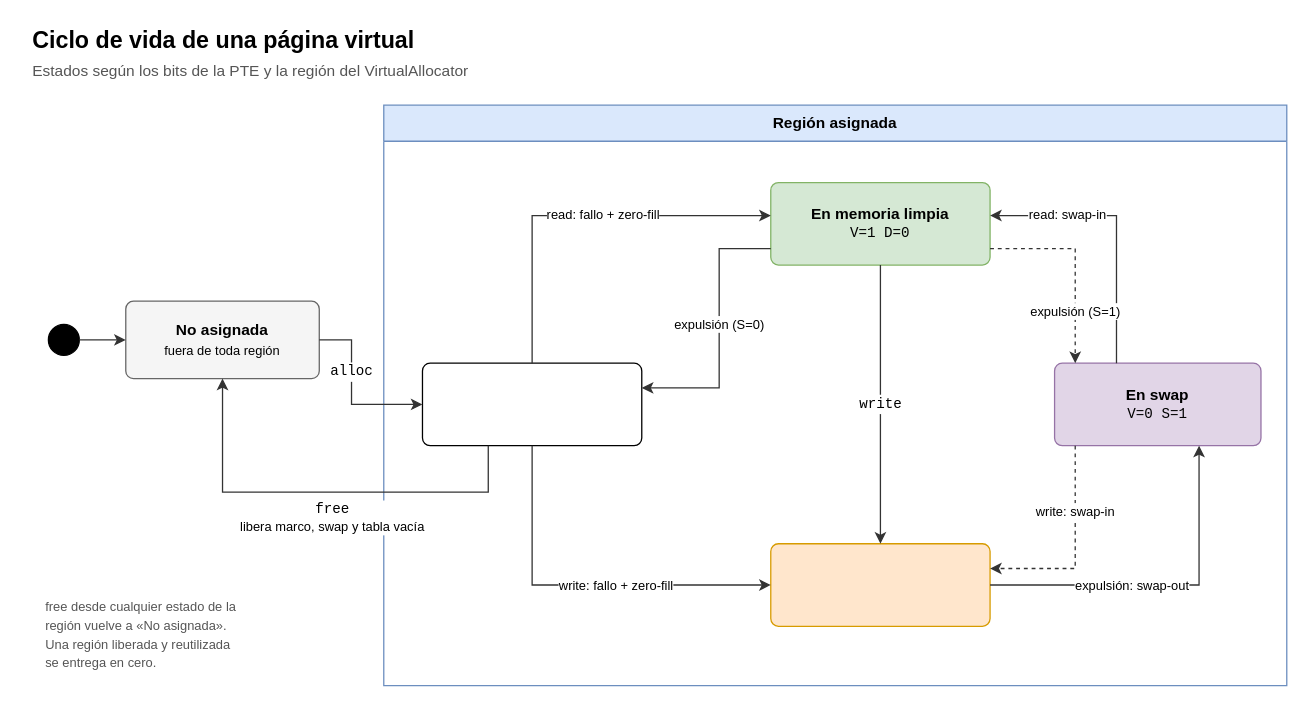
Some shapes in this 1309 by 708 pixel diagram are drawn without their labels. The centre of each missing label's shape, as x and y in pixels:
En memoria sucia V=1 D=1: point 879,584
Reservada PTE vacía o sin tabla: point 531,404
